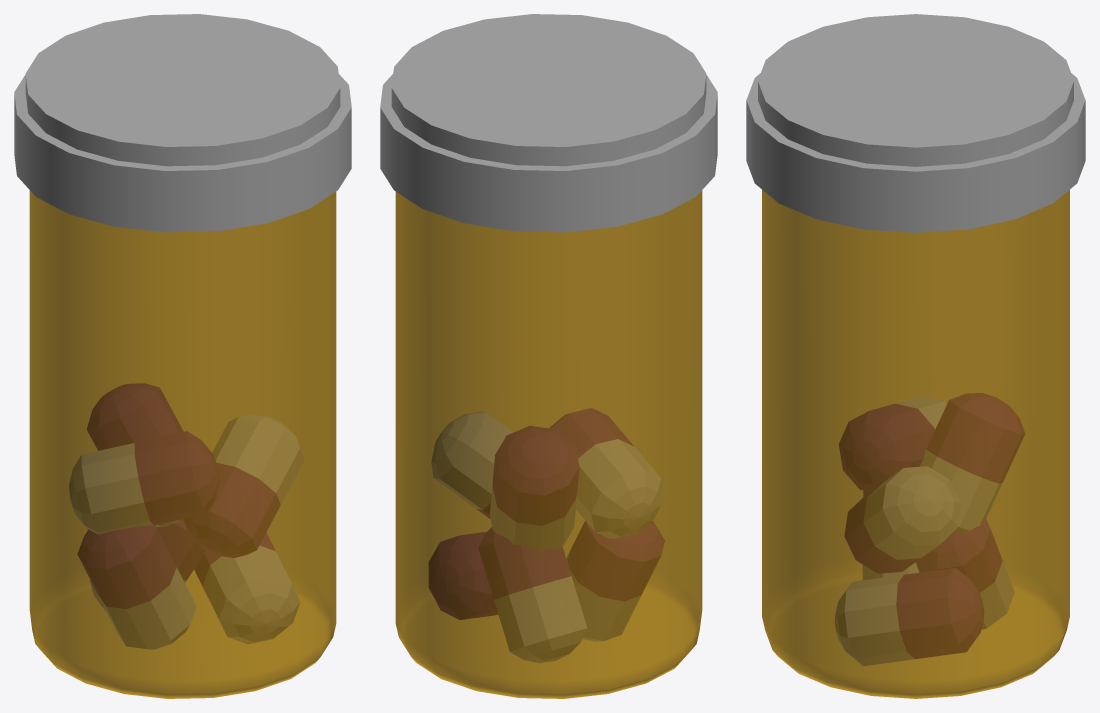
The model's file is Tarro.fbx.
The picture shows the model from 3 angles, left to right: view 1: azimuth 30°, elevation 25°; view 2: azimuth 150°, elevation 25°; view 3: azimuth 270°, elevation 25°; orthographic projection.
Parts seen in each view (by area): view 1: pCylinder1, pSphere6, pSphere5, pSphere1, pSphere2, pSphere4, pSphere3; view 2: pCylinder1, pSphere3, pSphere4, pSphere6, pSphere1, pSphere5, pSphere2; view 3: pCylinder1, pSphere2, pSphere5, pSphere4, pSphere6, pSphere3.
Part boxes in pixels (x1,y1,x2,y2): pCylinder1: [14, 14, 351, 698]; pSphere6: [69, 431, 218, 534]; pSphere5: [183, 414, 304, 557]; pSphere1: [77, 525, 196, 649]; pSphere2: [194, 533, 299, 644]; pSphere4: [87, 383, 183, 526]; pSphere3: [90, 521, 205, 612]; pCylinder1: [380, 14, 717, 698]; pSphere3: [478, 527, 587, 662]; pSphere4: [490, 426, 579, 551]; pSphere6: [550, 408, 664, 538]; pSphere1: [566, 521, 664, 641]; pSphere5: [431, 412, 512, 518]; pSphere2: [429, 532, 498, 619]; pCylinder1: [746, 14, 1085, 698]; pSphere2: [835, 568, 983, 665]; pSphere5: [844, 466, 960, 573]; pSphere4: [920, 393, 1024, 531]; pSphere6: [839, 396, 946, 491]; pSphere3: [916, 518, 1014, 629].
Bounding box in the file's own units: 149 × 269 × 149.
